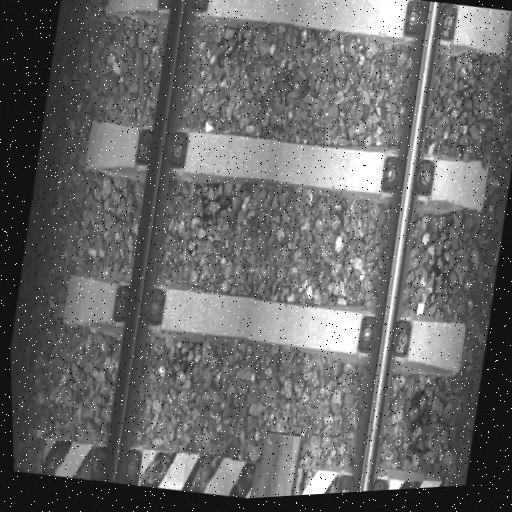clip: (109, 279, 168, 331), (354, 314, 412, 363), (85, 440, 144, 488), (380, 154, 436, 201), (401, 0, 459, 45), (132, 128, 188, 173), (331, 471, 388, 493), (157, 0, 211, 20)
sleeper: (82, 91, 489, 240), (60, 249, 469, 394), (37, 412, 440, 511), (106, 0, 512, 86)
